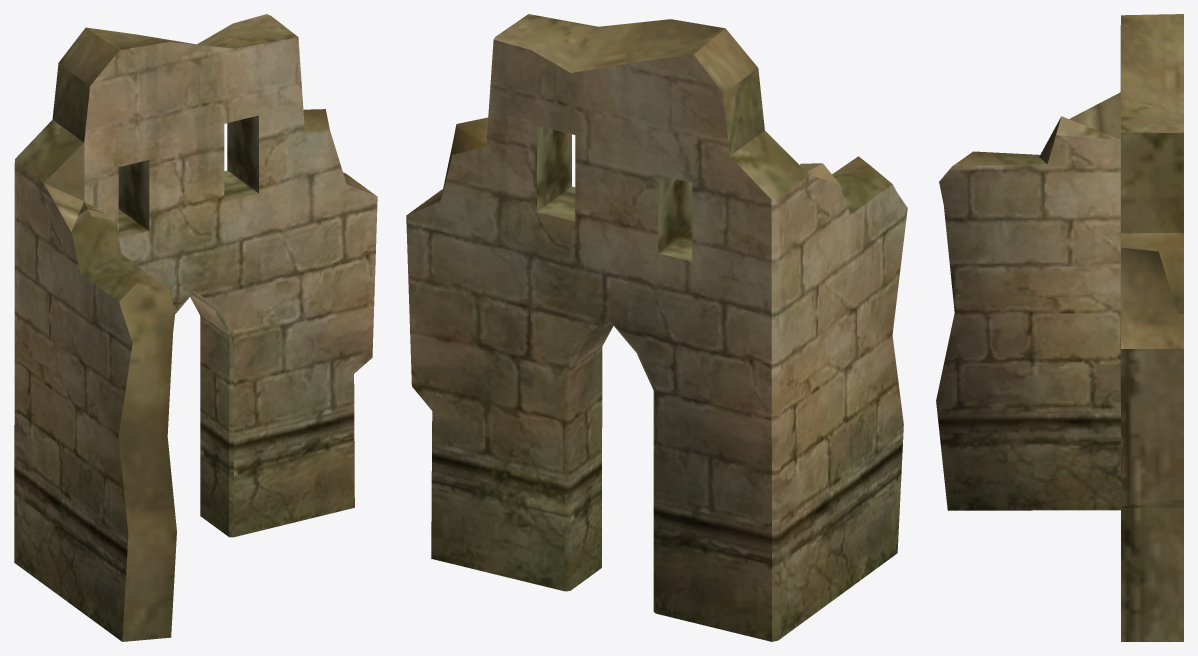
Rendered from environment_common_Stonewall_002_b.FBX.
3 views of the same model, side by side, from view 1: azimuth 30°, elevation 25°; view 2: azimuth 150°, elevation 25°; view 3: azimuth 270°, elevation 25° (orthographic). The views are drawn at different scales.
Parts seen in each view (by area): view 1: environment_common_Stonewall_002_b; view 2: environment_common_Stonewall_002_b; view 3: environment_common_Stonewall_002_b.
Boxes of the visible parts, x1,y1,x2,y2 form: environment_common_Stonewall_002_b: [14, 14, 377, 641]; environment_common_Stonewall_002_b: [406, 14, 907, 641]; environment_common_Stonewall_002_b: [936, 14, 1183, 641].
Size of the model in its own units: 316 by 464 by 204.
